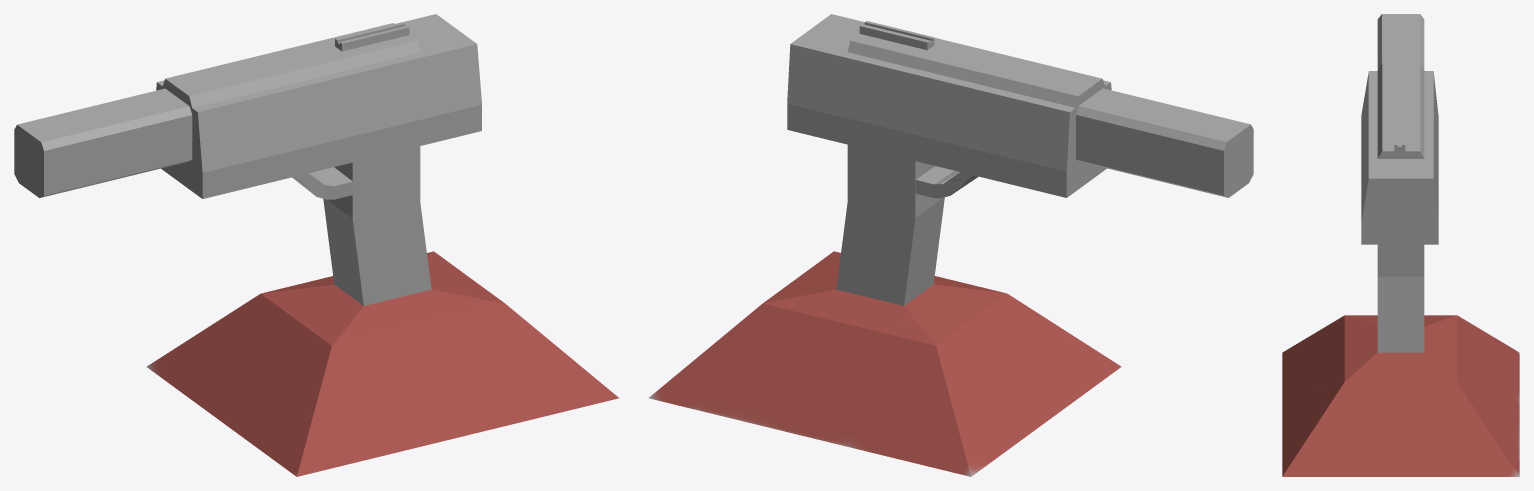
The model's file is Shooter.fbx.
3 views of the same model, side by side, from view 1: azimuth 30°, elevation 25°; view 2: azimuth 150°, elevation 25°; view 3: azimuth 270°, elevation 25° (orthographic). The views are drawn at different scales.
Visible parts, largest first — view 1: ShootersT; view 2: ShootersT; view 3: ShootersT.
Part boxes in pixels (bbox=[...]): ShootersT: bbox=[14, 14, 618, 476]; ShootersT: bbox=[648, 14, 1253, 476]; ShootersT: bbox=[1282, 14, 1519, 476].
Size of the model in its own units: 1.36 by 0.8919 by 0.6895.
